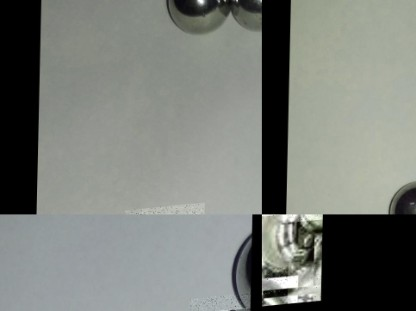ironball: (161, 0, 228, 42), (261, 214, 310, 269), (229, 230, 255, 309), (288, 265, 322, 309), (384, 177, 414, 217), (231, 0, 262, 37), (261, 271, 288, 311)
